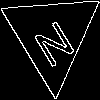N: (27, 11, 77, 69)
